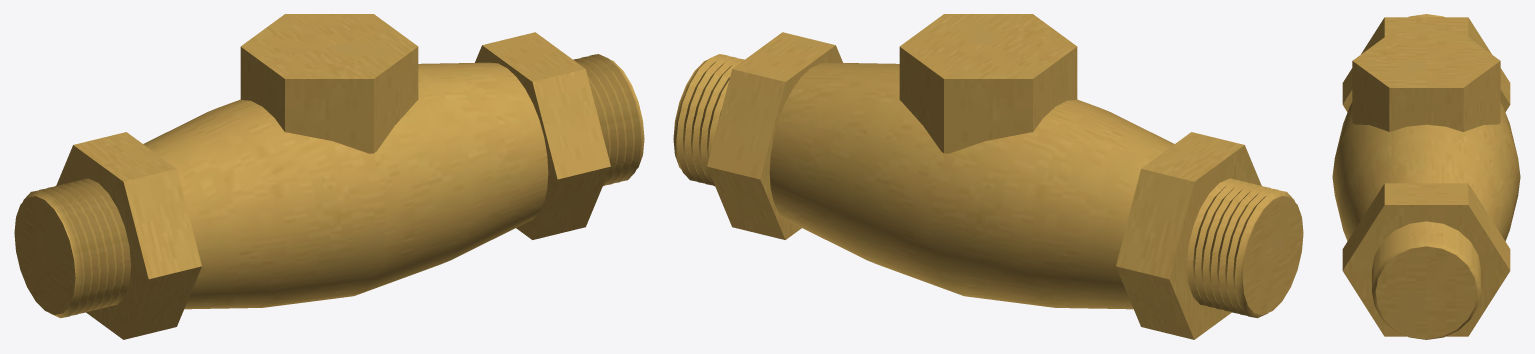
Rendered from HID-REG-004.glb.
The picture shows the model from 3 angles, left to right: view 1: azimuth 30°, elevation 25°; view 2: azimuth 150°, elevation 25°; view 3: azimuth 270°, elevation 25°; orthographic projection. The views are drawn at different scales.
Parts seen in each view (by area): view 1: HID-REG-004_corpo, HID-REG-004_tampa, HID-REG-004_s1, HID-REG-004_r1, HID-REG-004_s2, HID-REG-004_r2; view 2: HID-REG-004_corpo, HID-REG-004_tampa, HID-REG-004_s1, HID-REG-004_r1, HID-REG-004_s2, HID-REG-004_r2; view 3: HID-REG-004_corpo, HID-REG-004_tampa, HID-REG-004_r2, HID-REG-004_s2, HID-REG-004_s1.
Part boxes in pixels (x1,y1,x2,y2): HID-REG-004_corpo: (143,62,548,309); HID-REG-004_tampa: (240,14,418,153); HID-REG-004_s1: (56,132,201,339); HID-REG-004_r1: (14,178,131,318); HID-REG-004_s2: (475,32,610,239); HID-REG-004_r2: (573,54,644,186); HID-REG-004_corpo: (769,62,1174,309); HID-REG-004_tampa: (899,14,1077,153); HID-REG-004_s1: (1116,132,1261,339); HID-REG-004_r1: (1186,178,1303,318); HID-REG-004_s2: (707,32,842,239); HID-REG-004_r2: (673,54,744,186); HID-REG-004_corpo: (1332,102,1520,241); HID-REG-004_tampa: (1352,33,1500,131); HID-REG-004_r2: (1371,221,1481,339); HID-REG-004_s2: (1342,183,1510,336); HID-REG-004_s1: (1342,17,1510,111).
Bounding box in the file's own units: 0.128 × 0.052 × 0.044.
1 material, 1 textured.
